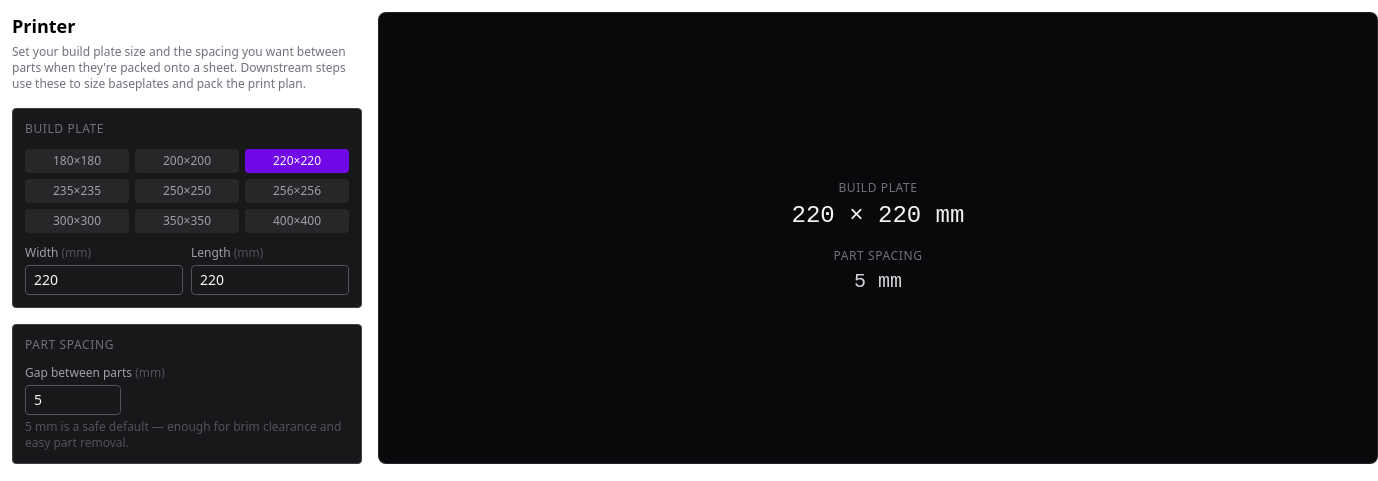
Scenario: PrinterStep › changing spacing updates the summary
Replace the text in the number field labelled "Gap between parts (mm)" with "10" at (73, 400), box [25,385,121,415]
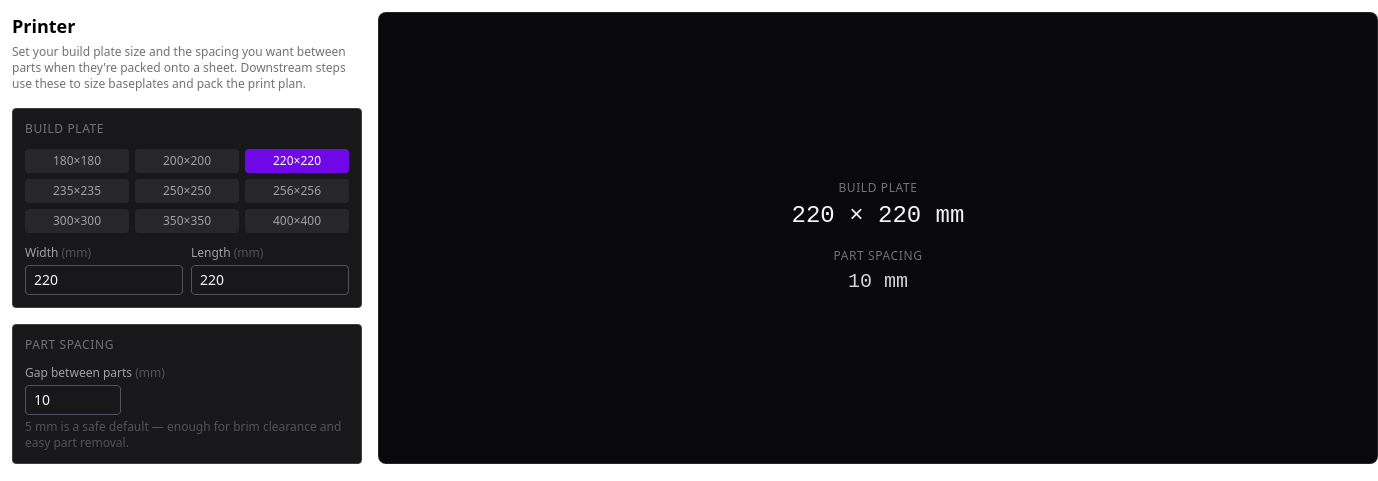
Expected: the text with test id "printer-summary-spacing" reads "10 mm", [848,270,908,293]
